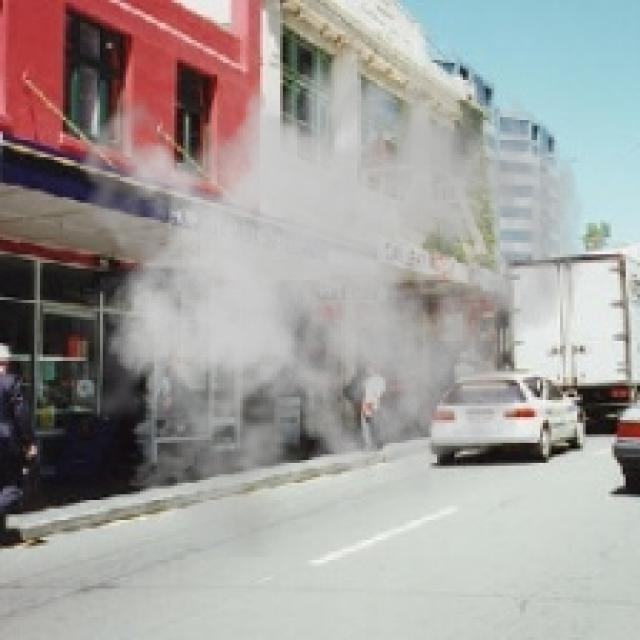Smoke: (71, 5, 586, 558)
